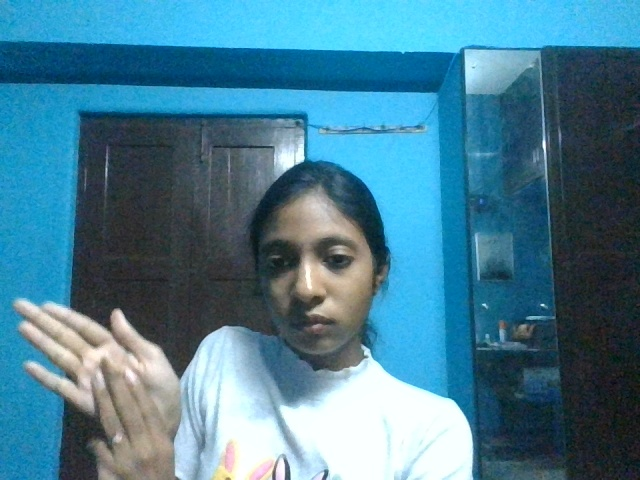M: (9, 289, 194, 480)
